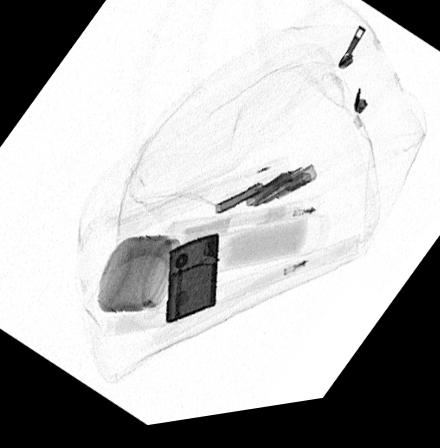Lighter: (165, 240, 219, 328)
